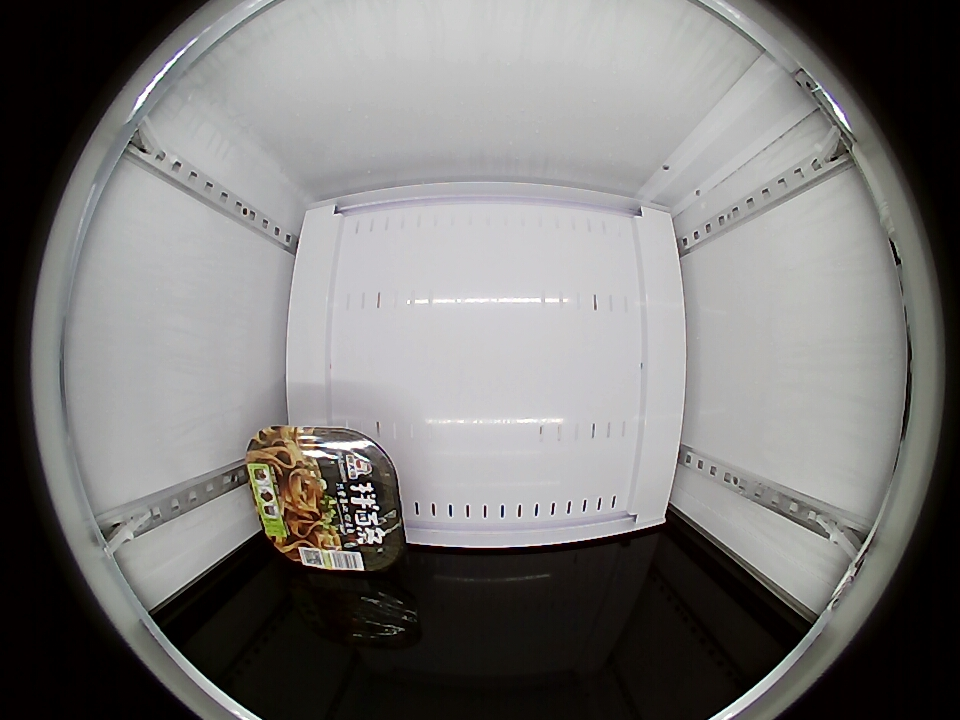gudasao: (246, 427, 404, 571)
